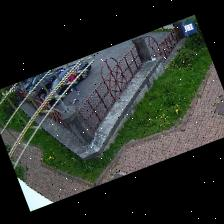person: (71, 85, 79, 95)
